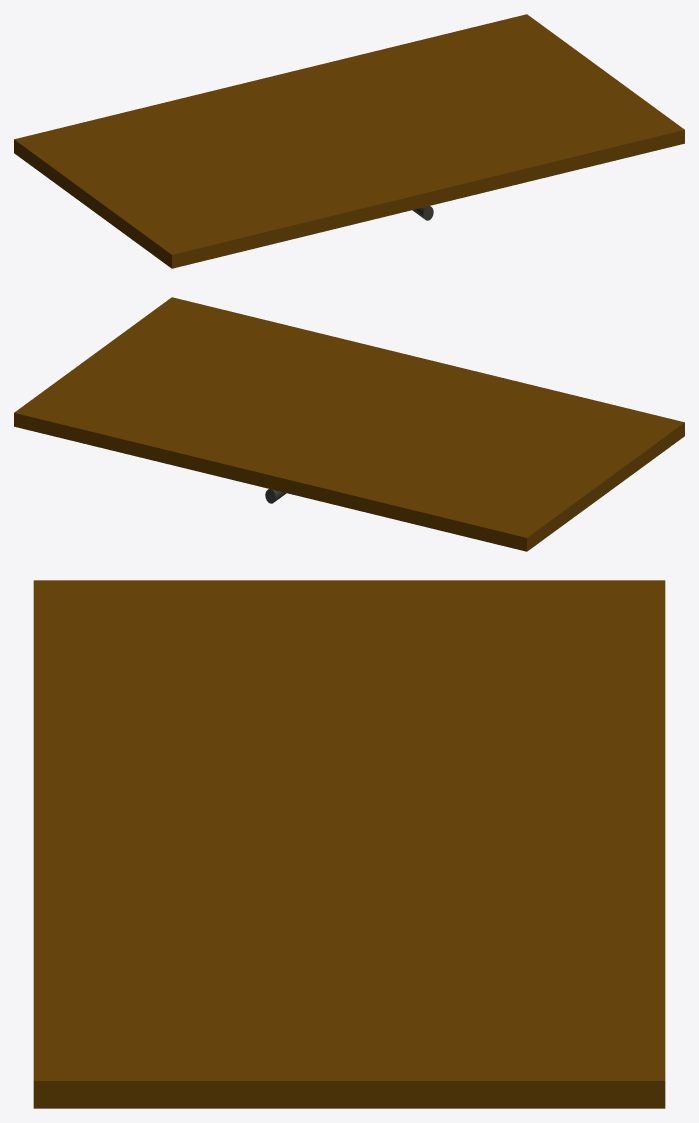
The model's file is board.dae.
3 views of the same model, one above another, from view 1: azimuth 30°, elevation 25°; view 2: azimuth 150°, elevation 25°; view 3: azimuth 270°, elevation 25° (orthographic). The views are drawn at different scales.
Parts seen in each view (by area): view 1: board; view 2: board; view 3: board.
Boxes of the visible parts, <box> form: board: <box>14,14,684,268</box>; board: <box>14,297,684,551</box>; board: <box>33,580,665,1108</box>.
Size of the model in its own units: 1.5 by 0.8 by 0.0788.
